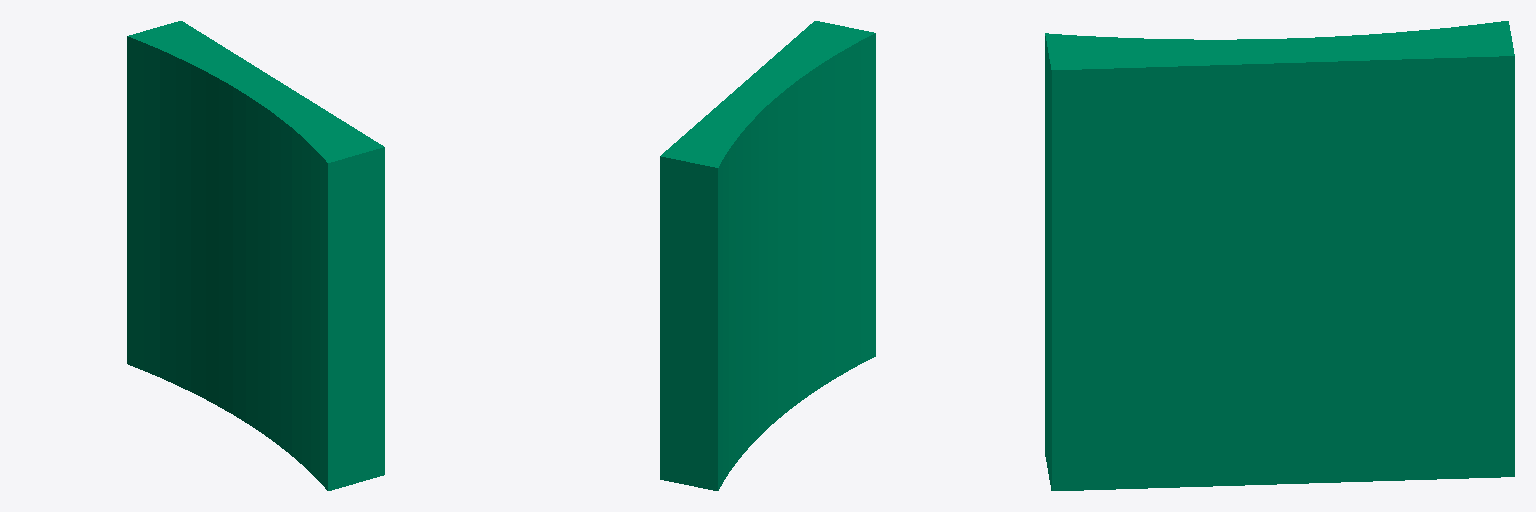
robot.urdf — legacy10:
<?xml version='1.0' encoding='utf-8'?>
<robot name="legacy10">
  <link name="base_link">
    <visual>
      <geometry>
        <mesh filename="satellite.stl" />
      </geometry>
    </visual>
    <collision>
      <geometry>
        <mesh filename="satellite.stl" />
      </geometry>
    </collision>
  </link>
  <link name="legacy10_mount" />
  <joint name="satellite_mount_fixed" type="fixed">
    <parent link="base_link" />
    <child link="legacy10_mount" />
    <origin xyz="0.6696842409943525 0.04390860234940623 2.6205085134159303" rpy="-1.4013235016818726e-12 -1.5707955494145627 -3.06792001243422" />
  </joint>
  <link name="mount_support">
    <visual>
      <geometry>
        <mesh filename="mount_support.stl" />
      </geometry>
    </visual>
    <collision>
      <geometry>
        <mesh filename="mount_support.stl" />
      </geometry>
    </collision>
  </link>
  <joint name="support_fixed" type="fixed">
    <parent link="legacy10_mount" />
    <child link="mount_support" />
    <origin xyz="0 0 0" rpy="0 0 0" />
  </joint>
</robot>

--- Facts derived from the render (not from the file) ---
Views: 3 orthographic renders of the robot side by side, from view 1: azimuth 30°, elevation 25°; view 2: azimuth 150°, elevation 25°; view 3: azimuth 270°, elevation 25°.
Robot: legacy10 — 3 links, 2 joints (2 fixed); root link base_link; default pose: every joint at zero.
Visible links, largest first — view 1: mount_support; view 2: mount_support; view 3: mount_support.
Boxes of the visible links, box(x1,y1,x2,y2) form: mount_support: box(127, 21, 384, 490); mount_support: box(660, 21, 875, 490); mount_support: box(1045, 21, 1514, 490).
Bounding box of the posed robot: 0.0814 × 0.3236 × 0.32 m (x, y, z).
1 mesh visuals loaded from 2 distinct referenced files (1 binary STL); not drawn: 1 (reference not matched to a file when rendering).
